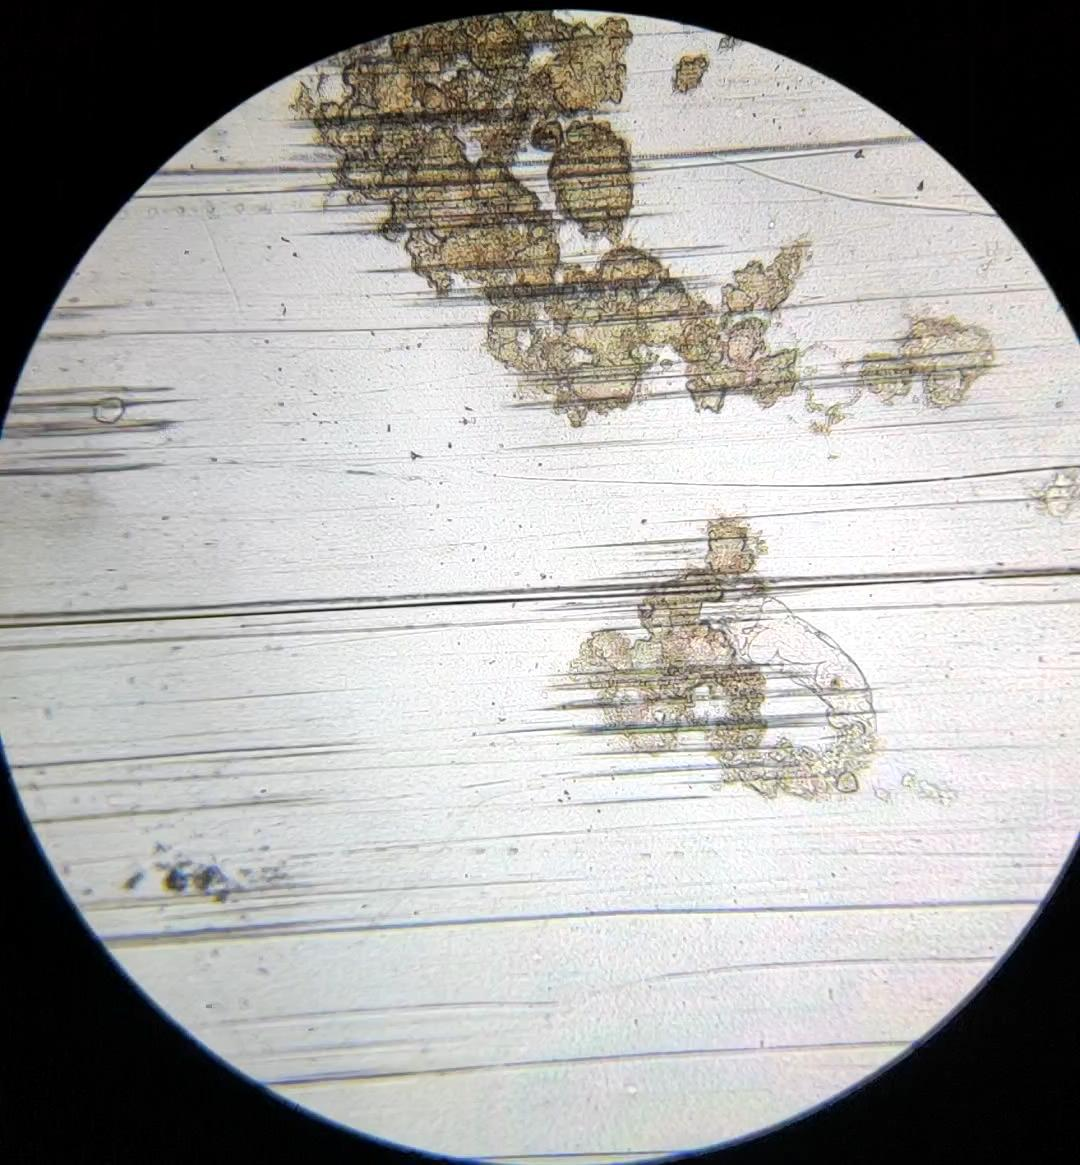Do: (708, 594, 876, 756)
